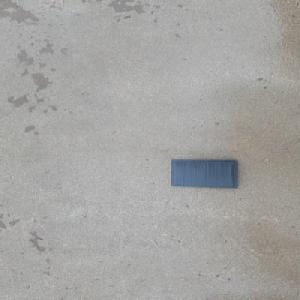PlasticPart: (168, 157, 240, 188)
